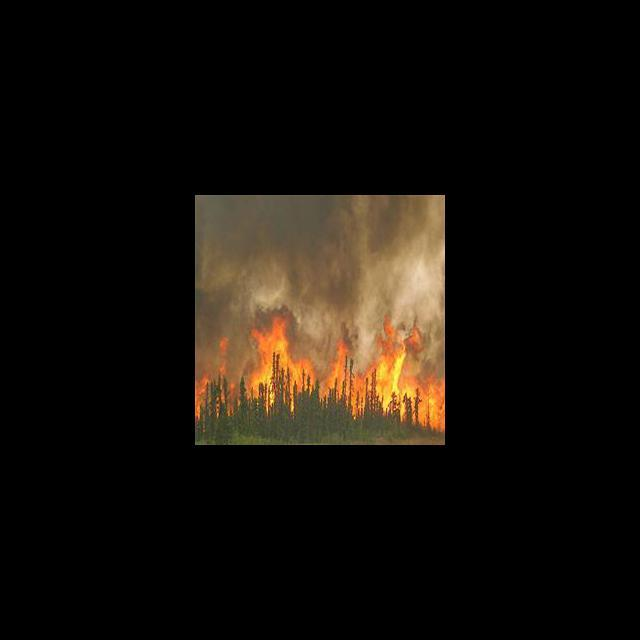Fire: (196, 322, 445, 431)
Smoke: (196, 195, 445, 318)
